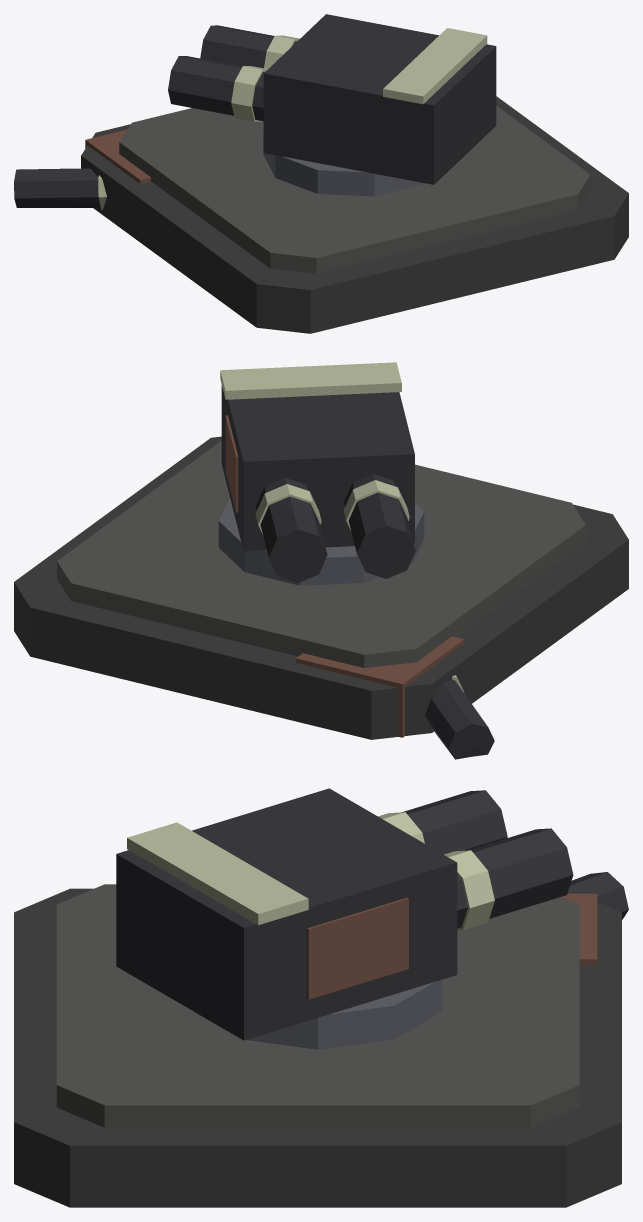
File: ancient_autocannon_turret_2.obj
3 renders of one model, top to bottom at view 1: azimuth 30°, elevation 25°; view 2: azimuth 150°, elevation 25°; view 3: azimuth 270°, elevation 25°, orthographic. The views are drawn at different scales.
Visible parts, largest first — view 1: ancient_autocannon_turret_2; view 2: ancient_autocannon_turret_2; view 3: ancient_autocannon_turret_2.
Part boxes in pixels (x1,y1,x2,y2): ancient_autocannon_turret_2: [14, 14, 628, 333]; ancient_autocannon_turret_2: [14, 362, 628, 759]; ancient_autocannon_turret_2: [14, 788, 628, 1207].
Size of the model in its own units: 2.28 by 0.86 by 1.98.
